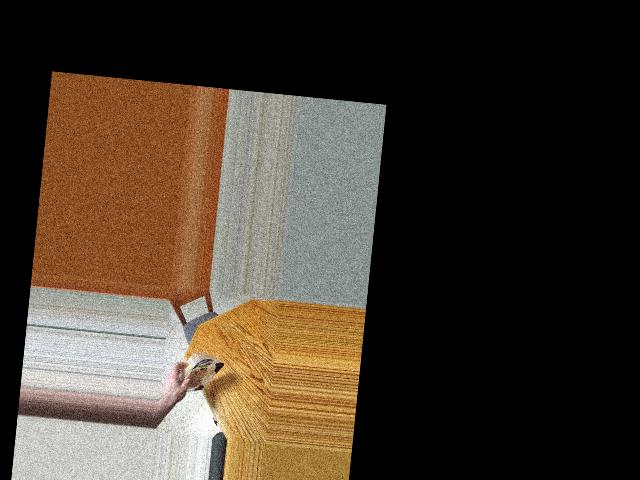cheese: (178, 346, 223, 407)
